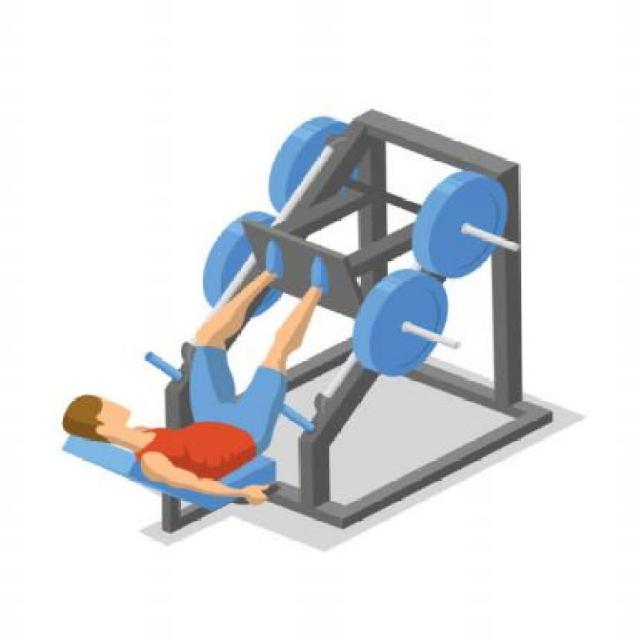leg press: (35, 72, 592, 563)
